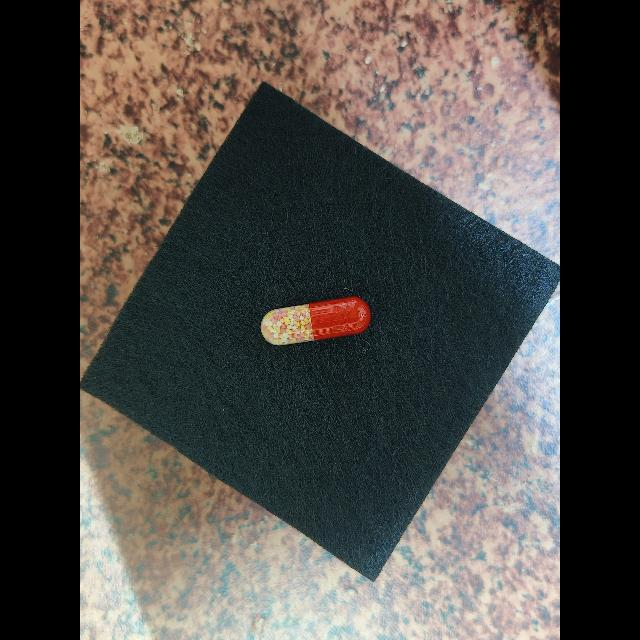Intact Capsule: (261, 296, 371, 345)
